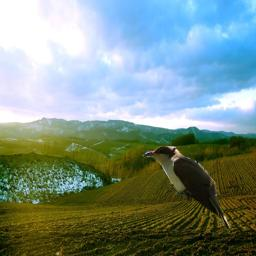Cuckoo: (142, 146, 230, 234)
